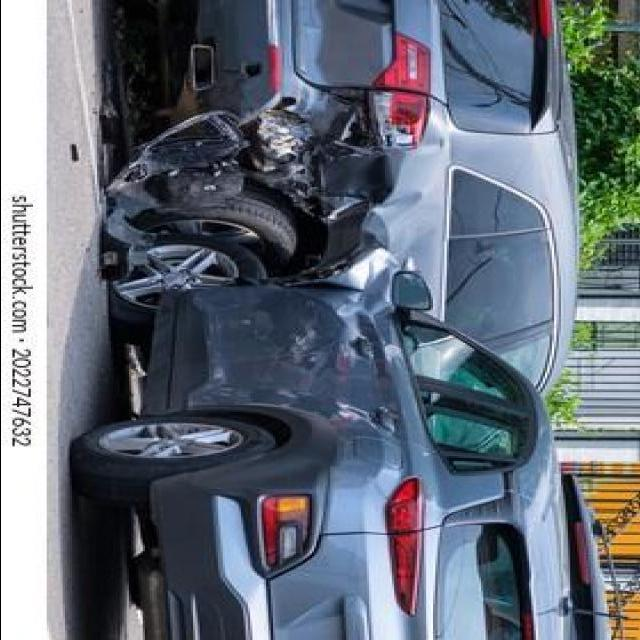accident: (105, 0, 624, 624)
